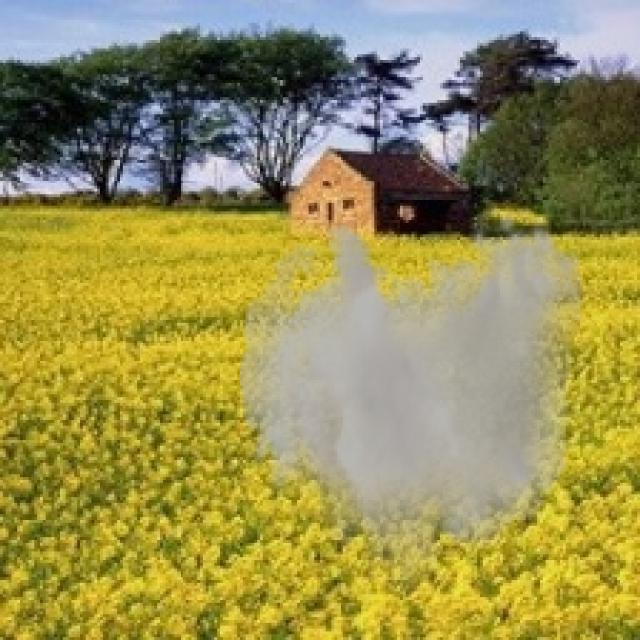smoke: (240, 211, 586, 600)
